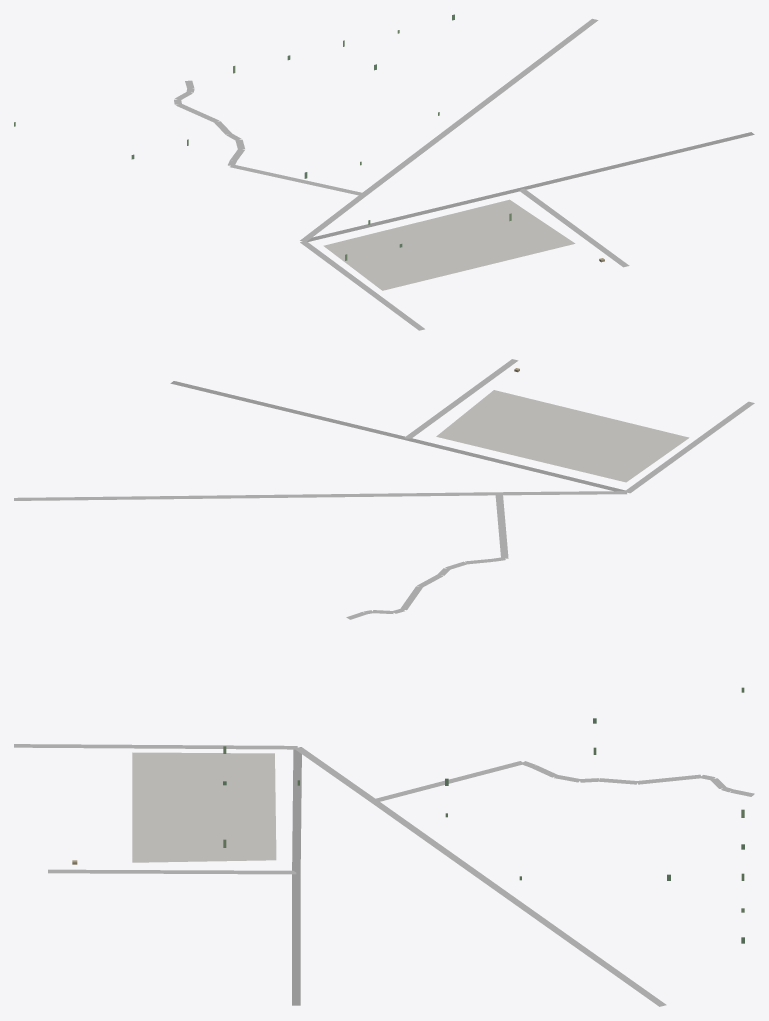
3 renders of one model, top to bottom at view 1: azimuth 30°, elevation 25°; view 2: azimuth 150°, elevation 25°; view 3: azimuth 270°, elevation 25°, orthographic. The views are drawn at different scales.
Bounding box in the file's own units: 601 × 9.94 × 601.
